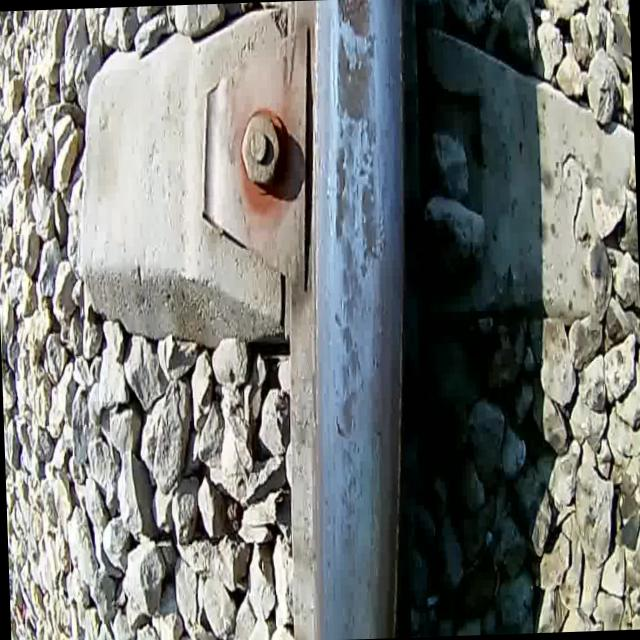Cracks: (331, 406, 350, 447)
Spallings: (330, 0, 373, 37)
Squats: (313, 0, 404, 588)
